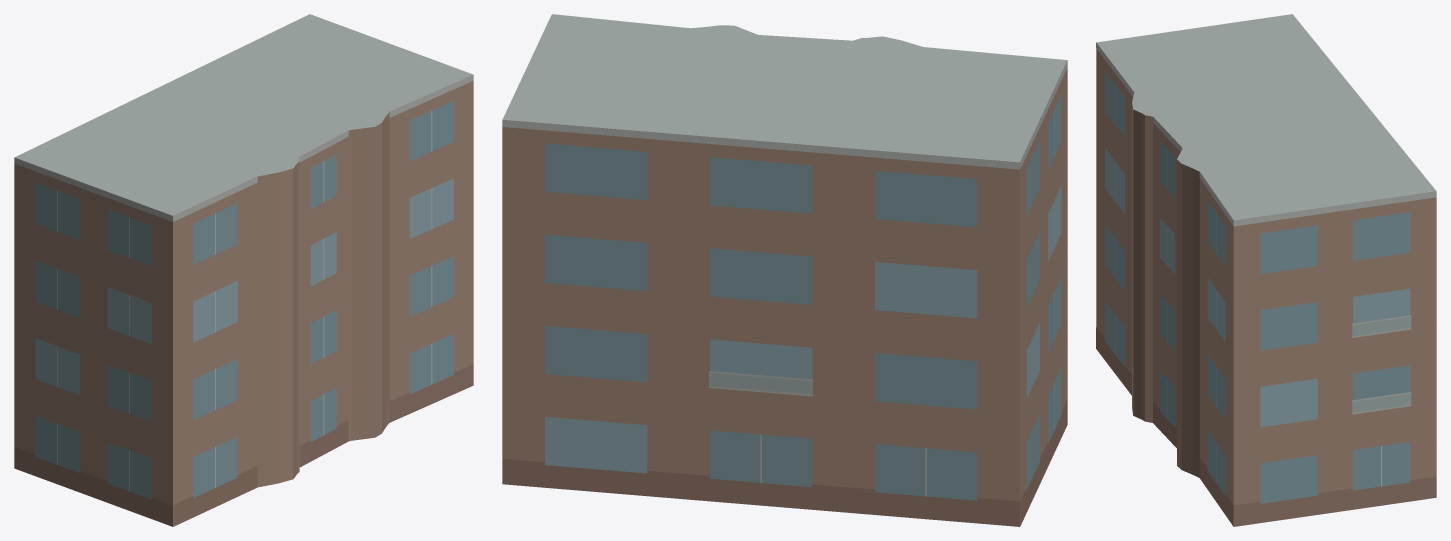
File: survey-upis-32996898.glb
The picture shows the model from 3 angles, left to right: view 1: azimuth 30°, elevation 25°; view 2: azimuth 150°, elevation 25°; view 3: azimuth 270°, elevation 25°; orthographic projection. The views are drawn at different scales.
Parts seen in each view (by area): view 1: survey-upis-32996898.tmp; view 2: survey-upis-32996898.tmp; view 3: survey-upis-32996898.tmp.
Boxes of the visible parts, left/top/right/bottom form: survey-upis-32996898.tmp: left=14, top=14, right=473, bottom=526; survey-upis-32996898.tmp: left=502, top=14, right=1067, bottom=526; survey-upis-32996898.tmp: left=1096, top=14, right=1436, bottom=526.
Bounding box in the file's own units: 17.93 × 12.4 × 12.5.
